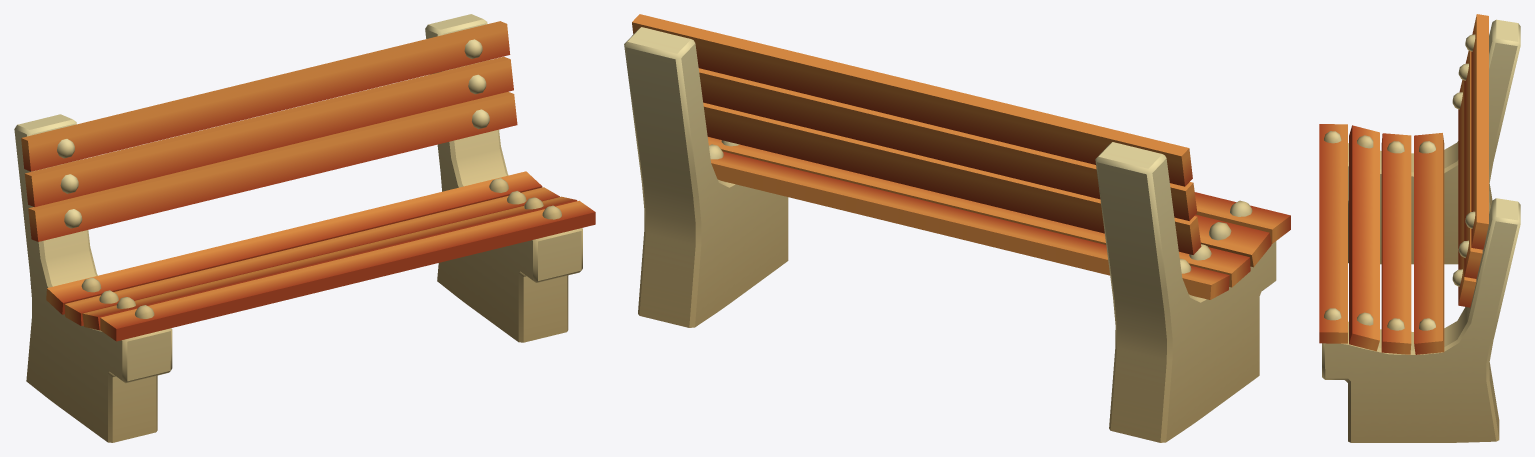
Rendered from Bench.fbx.
The picture shows the model from 3 angles, left to right: view 1: azimuth 30°, elevation 25°; view 2: azimuth 150°, elevation 25°; view 3: azimuth 270°, elevation 25°; orthographic projection. The views are drawn at different scales.
Parts seen in each view (by area): view 1: Bench; view 2: Bench; view 3: Bench.
Boxes of the visible parts, x1,y1,x2,y2 form: Bench: [14, 14, 595, 442]; Bench: [624, 14, 1290, 442]; Bench: [1319, 14, 1520, 442].
Bounding box in the file's own units: 308 × 155 × 126.
